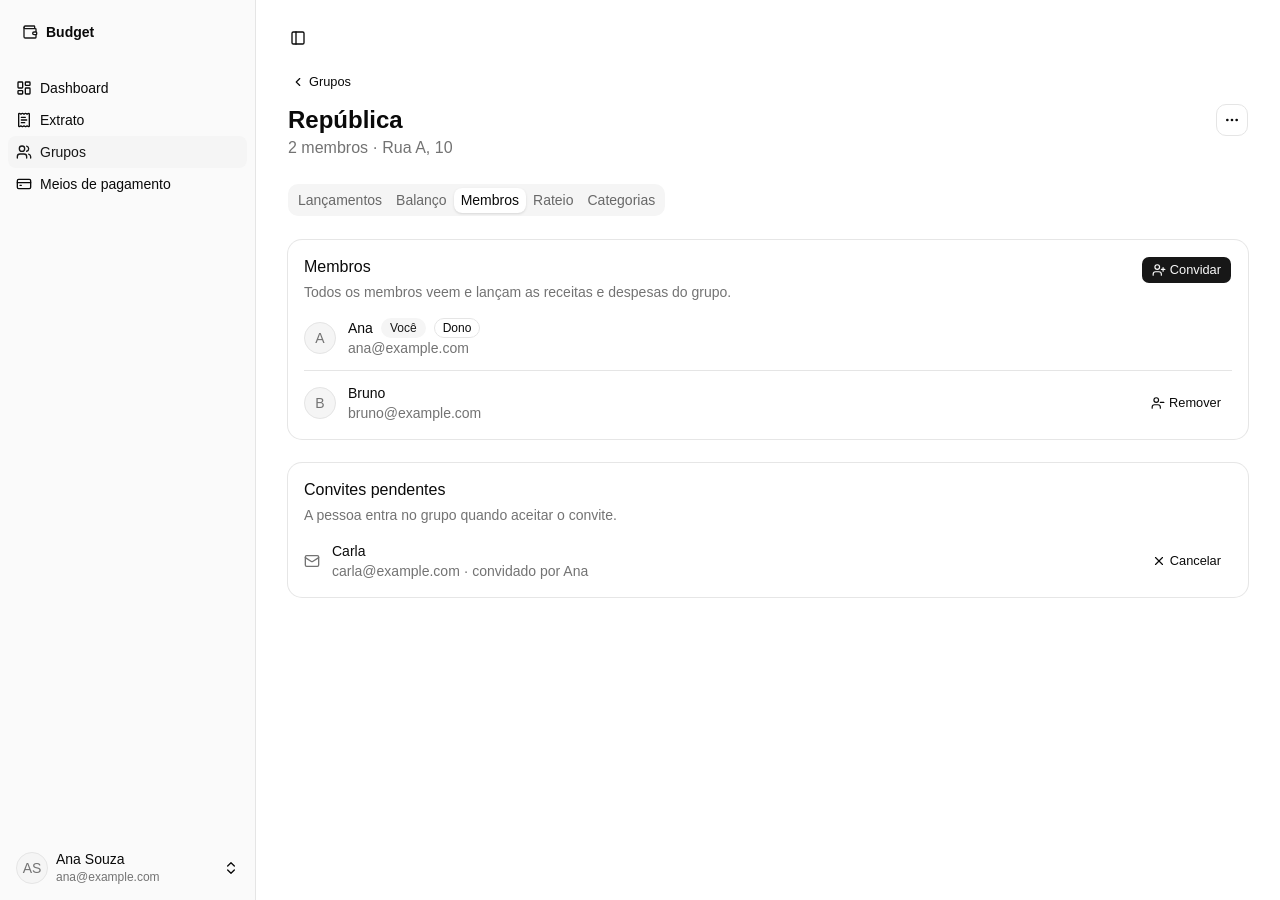
Test: Group members (/grupos/$groupId?tab=membros) › invites a registered user by e-mail
Expected: the heading "República" is shown, [288,106,403,133]
Click the button "Convidar": (1186,270) [1141,256,1232,284]
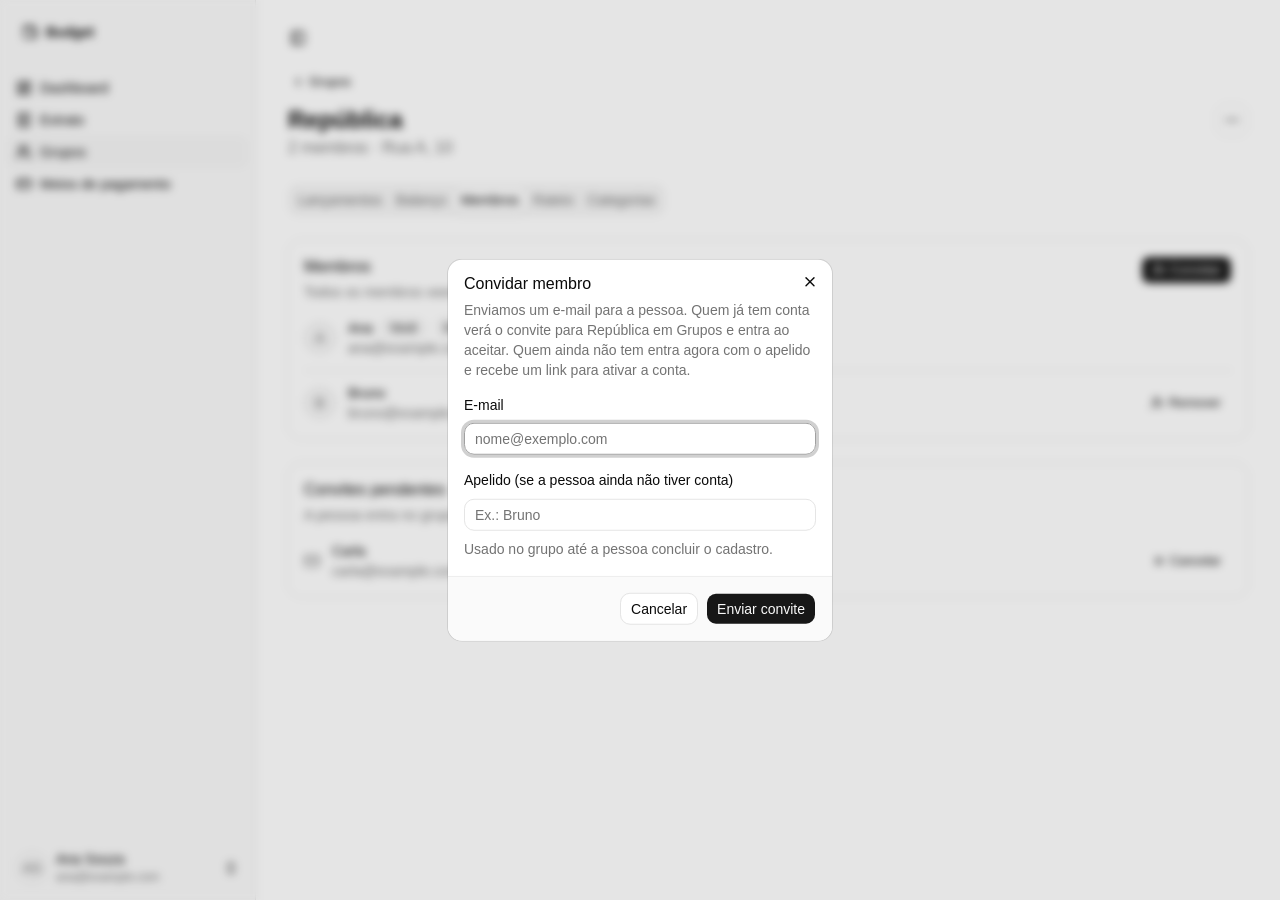
In the field labelled "E-mail": (640,439) [464,423,816,455], type "  Diego@Example.com "
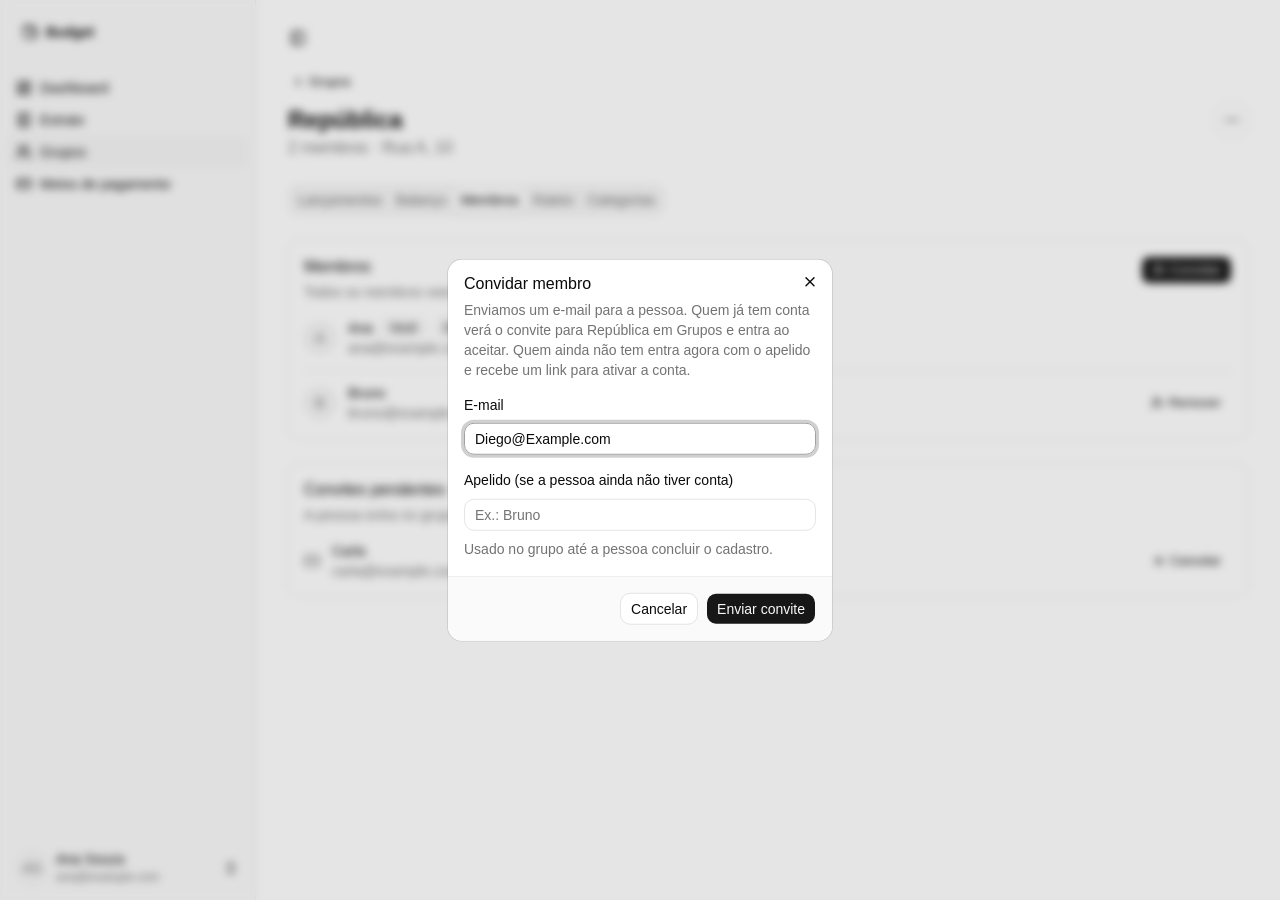
Click the button "Enviar convite": (761,608) [706,592,816,624]
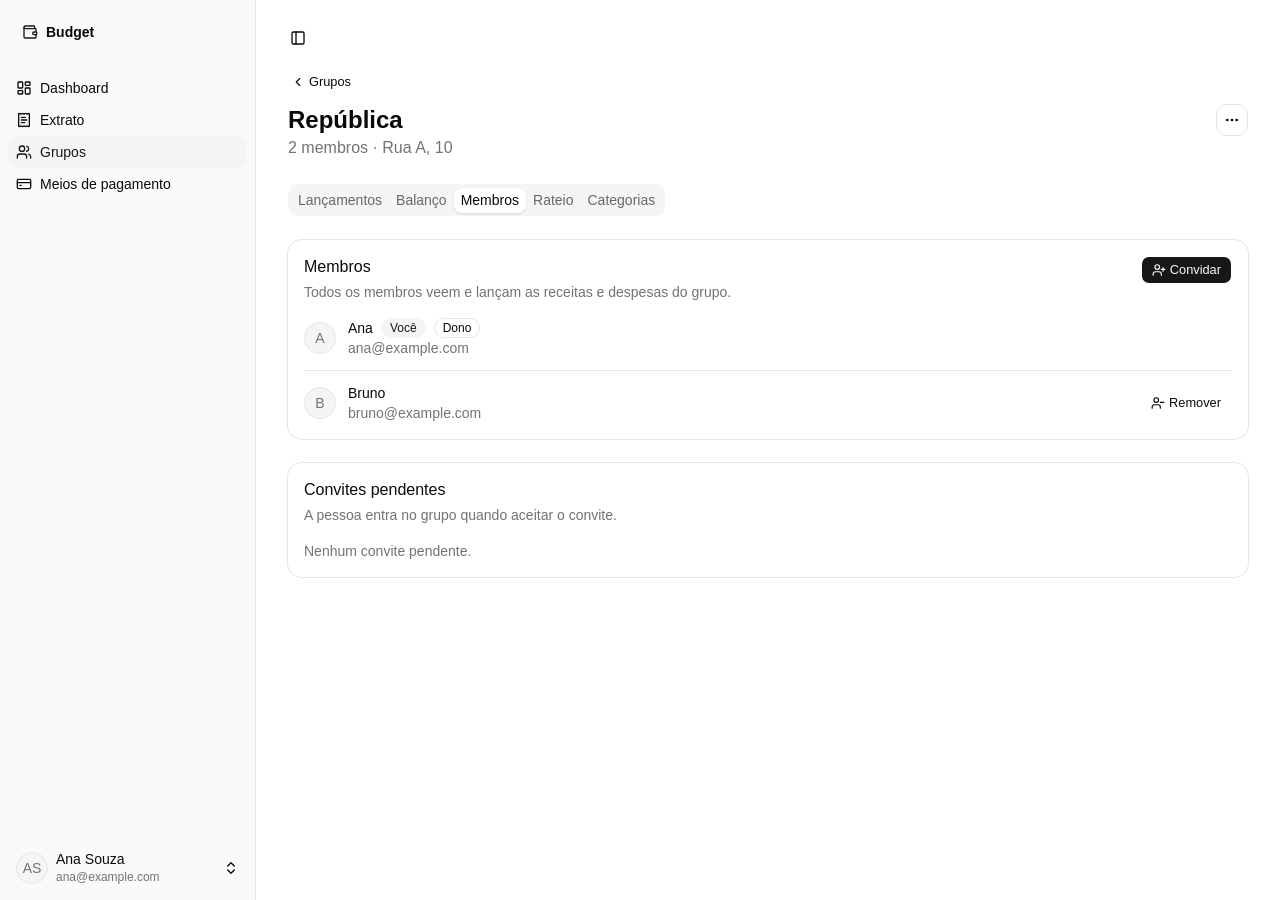
Expected: the dialog is gone
